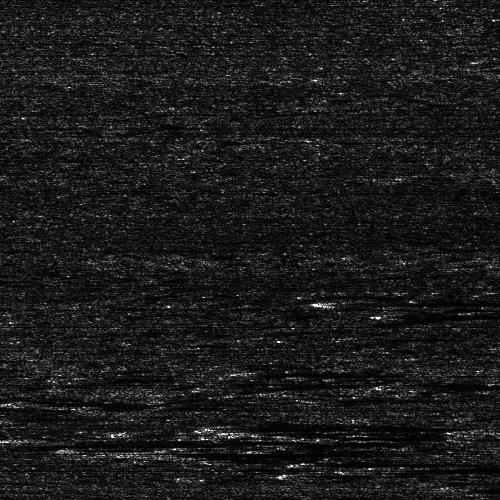rock: (252, 455, 377, 470), (301, 461, 426, 476), (64, 447, 209, 458), (176, 418, 269, 435), (370, 295, 411, 306), (0, 435, 37, 446), (381, 308, 422, 317), (44, 392, 65, 403), (0, 413, 10, 420)
shadow: (223, 418, 448, 435), (0, 435, 347, 446), (315, 455, 487, 470), (137, 447, 354, 458), (364, 461, 500, 476), (391, 295, 500, 306), (402, 308, 500, 317), (55, 392, 109, 403), (0, 413, 83, 420)
